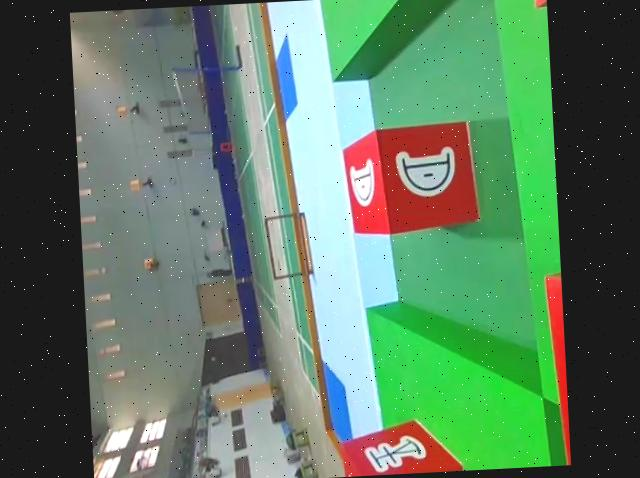R2 Real: (340, 125, 480, 236), (338, 419, 470, 478)
